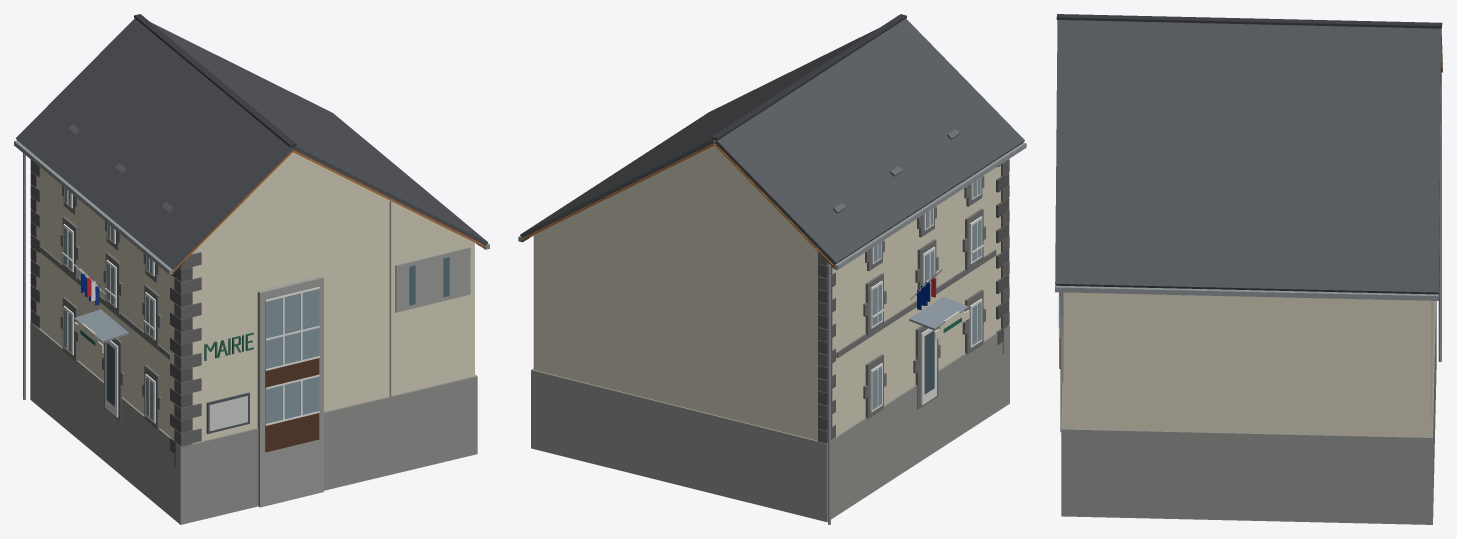
Rendered from mairie-d-olby.glb.
The picture shows the model from 3 angles, left to right: view 1: azimuth 30°, elevation 25°; view 2: azimuth 150°, elevation 25°; view 3: azimuth 270°, elevation 25°; orthographic projection. The views are drawn at different scales.
Parts seen in each view (by area): view 1: Mairie d'Olby; view 2: Mairie d'Olby; view 3: Mairie d'Olby.
Part boxes in pixels (x1=…): Mairie d'Olby: x1=14, y1=14, x2=489, y2=524; Mairie d'Olby: x1=518, y1=14, x2=1026, y2=524; Mairie d'Olby: x1=1055, y1=14, x2=1442, y2=524.
Size of the model in its own units: 13.28 by 13.3 by 11.72.
